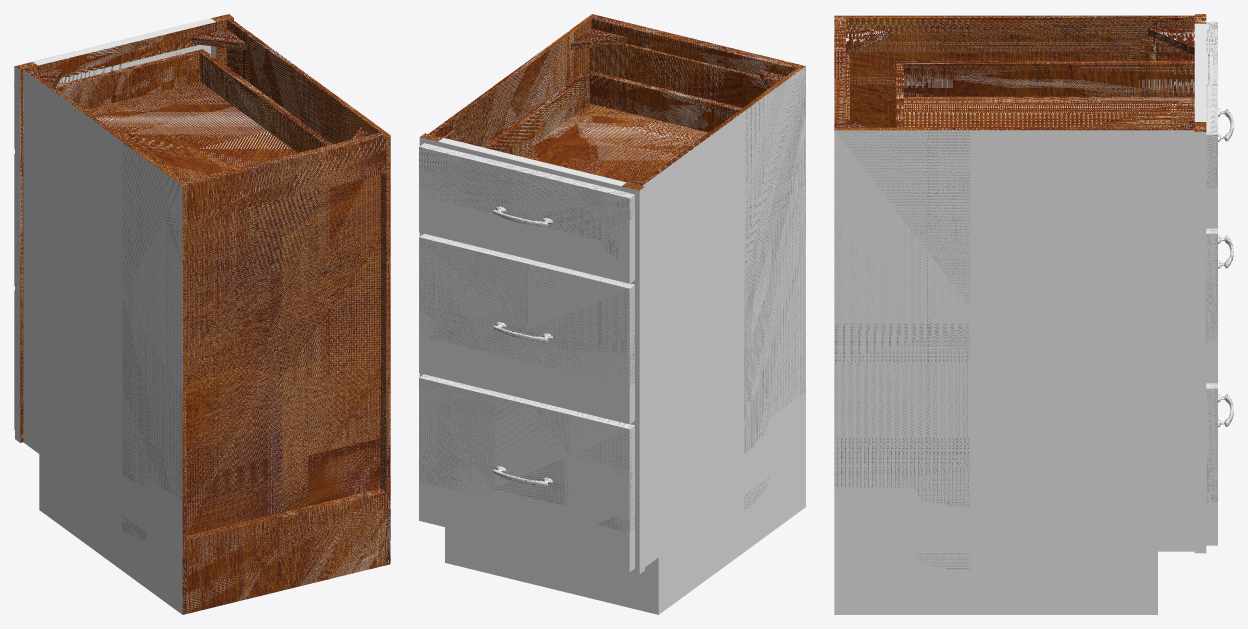
The picture shows the model from 3 angles, left to right: view 1: azimuth 30°, elevation 25°; view 2: azimuth 150°, elevation 25°; view 3: azimuth 270°, elevation 25°; orthographic projection. The views are drawn at different scales.
Visible parts, largest first — view 1: mesh4_mesh4-geometry, mesh7_mesh7-geometry, mesh12_mesh12-geometry, mesh22_mesh22-geometry, mesh10_mesh10-geometry, mesh3_mesh3-geometry, mesh8_mesh8-geometry, mesh6_mesh6-geometry, mesh20_mesh20-geometry, mesh19_mesh19-geometry, mesh2_mesh2-geometry, mesh5_mesh5-geometry (+4 smaller); view 2: mesh31_mesh31-geometry, mesh7_mesh7-geometry, mesh24_mesh24-geometry, mesh8_mesh8-geometry, mesh22_mesh22-geometry, mesh13_mesh13-geometry, mesh10_mesh10-geometry, mesh4_mesh4-geometry, mesh6_mesh6-geometry, mesh20_mesh20-geometry, mesh2_mesh2-geometry, mesh3_mesh3-geometry (+4 smaller); view 3: mesh10_mesh10-geometry, mesh11_mesh11-geometry, mesh7_mesh7-geometry, mesh9_mesh9-geometry, mesh19_mesh19-geometry, mesh22_mesh22-geometry, mesh2_mesh2-geometry, mesh31_mesh31-geometry, mesh24_mesh24-geometry, mesh3_mesh3-geometry, mesh5_mesh5-geometry, mesh6_mesh6-geometry (+3 smaller).
Boxes of the visible parts, <box> form: mesh4_mesh4-geometry: <box>187,175,380,535</box>; mesh7_mesh7-geometry: <box>39,80,186,558</box>; mesh12_mesh12-geometry: <box>187,488,386,613</box>; mesh22_mesh22-geometry: <box>85,82,296,178</box>; mesh10_mesh10-geometry: <box>243,30,390,509</box>; mesh3_mesh3-geometry: <box>182,132,386,221</box>; mesh8_mesh8-geometry: <box>39,454,186,614</box>; mesh6_mesh6-geometry: <box>23,68,43,453</box>; mesh20_mesh20-geometry: <box>55,50,200,109</box>; mesh19_mesh19-geometry: <box>197,49,332,152</box>; mesh2_mesh2-geometry: <box>15,14,233,442</box>; mesh5_mesh5-geometry: <box>33,18,216,78</box>; mesh31_mesh31-geometry: <box>419,233,634,572</box>; mesh7_mesh7-geometry: <box>654,65,805,556</box>; mesh24_mesh24-geometry: <box>419,143,634,283</box>; mesh8_mesh8-geometry: <box>654,450,805,614</box>; mesh22_mesh22-geometry: <box>519,103,708,182</box>; mesh13_mesh13-geometry: <box>449,528,653,613</box>; mesh10_mesh10-geometry: <box>445,14,596,146</box>; mesh4_mesh4-geometry: <box>589,44,767,107</box>; mesh6_mesh6-geometry: <box>638,173,658,566</box>; mesh20_mesh20-geometry: <box>590,71,742,132</box>; mesh2_mesh2-geometry: <box>419,133,644,574</box>; mesh3_mesh3-geometry: <box>591,15,800,75</box>; mesh10_mesh10-geometry: <box>834,127,1157,551</box>; mesh11_mesh11-geometry: <box>834,551,1157,614</box>; mesh7_mesh7-geometry: <box>834,15,1157,127</box>; mesh9_mesh9-geometry: <box>1158,127,1194,551</box>; mesh19_mesh19-geometry: <box>896,60,1194,96</box>; mesh22_mesh22-geometry: <box>904,96,1194,127</box>; mesh2_mesh2-geometry: <box>1194,14,1206,553</box>; mesh31_mesh31-geometry: <box>1206,228,1217,545</box>; mesh24_mesh24-geometry: <box>1206,21,1217,228</box>; mesh3_mesh3-geometry: <box>834,18,845,127</box>; mesh5_mesh5-geometry: <box>1194,23,1206,121</box>; mesh6_mesh6-geometry: <box>1158,15,1194,60</box>.
Size of the model in its own units: 0.3857 by 0.7393 by 0.552.
